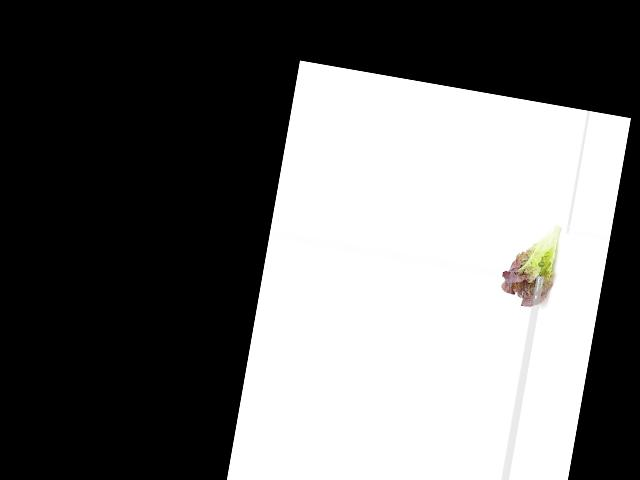lettuce: (496, 214, 567, 313)
